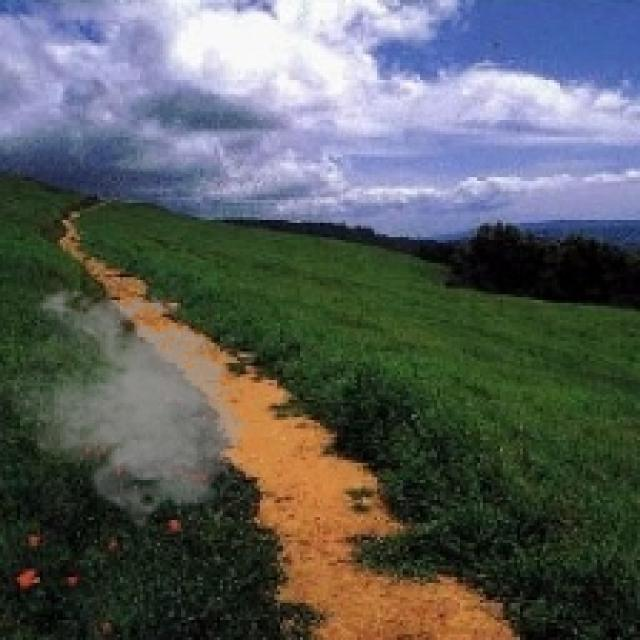smoke: (3, 283, 257, 531)
